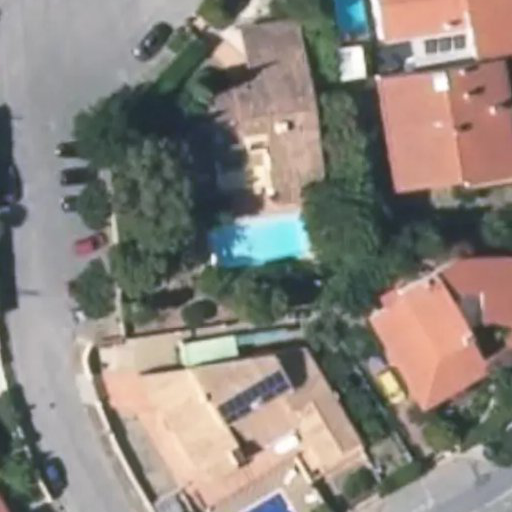pool: (207, 229, 306, 255)
